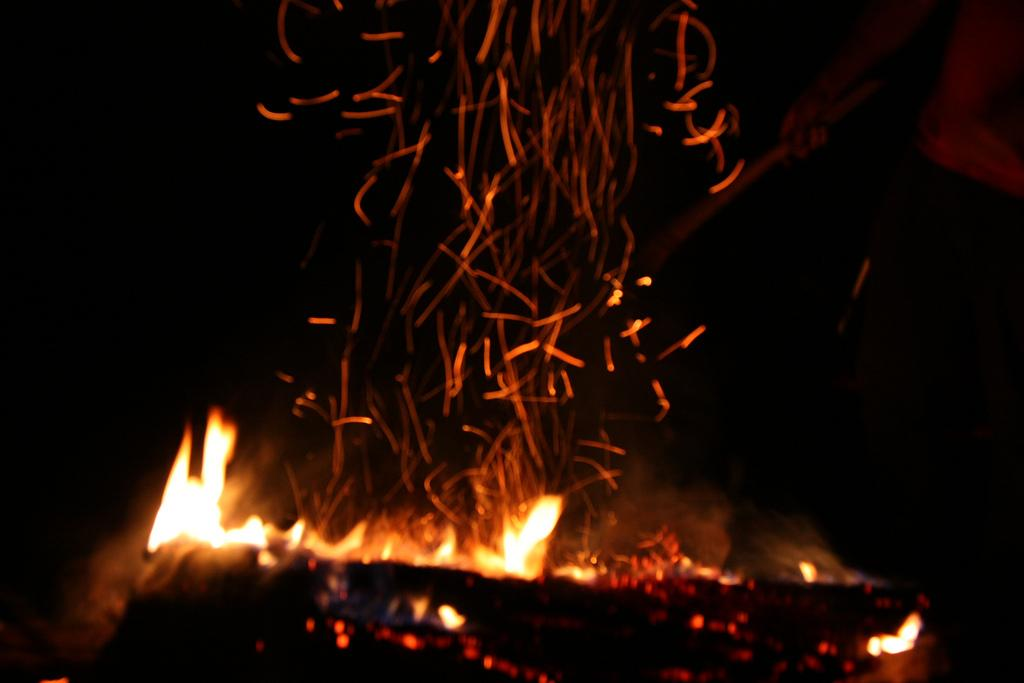fire: (162, 410, 235, 545), (510, 493, 575, 568)
